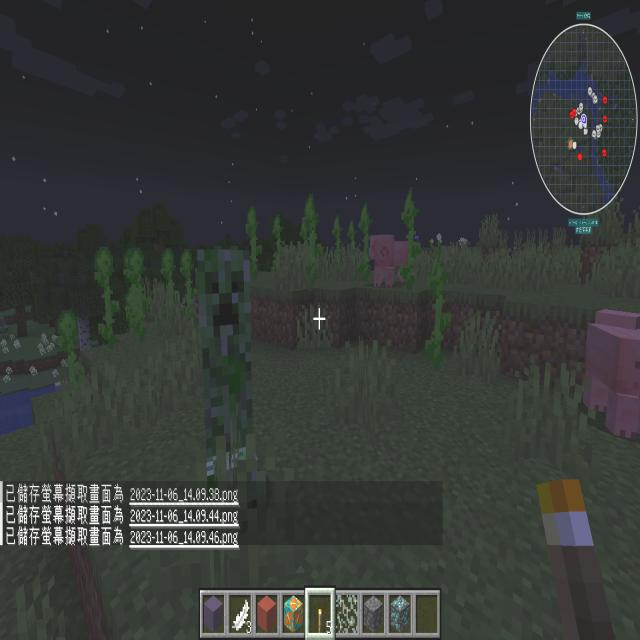pig: (582, 285, 640, 460), (363, 224, 426, 296), (370, 230, 400, 295)
